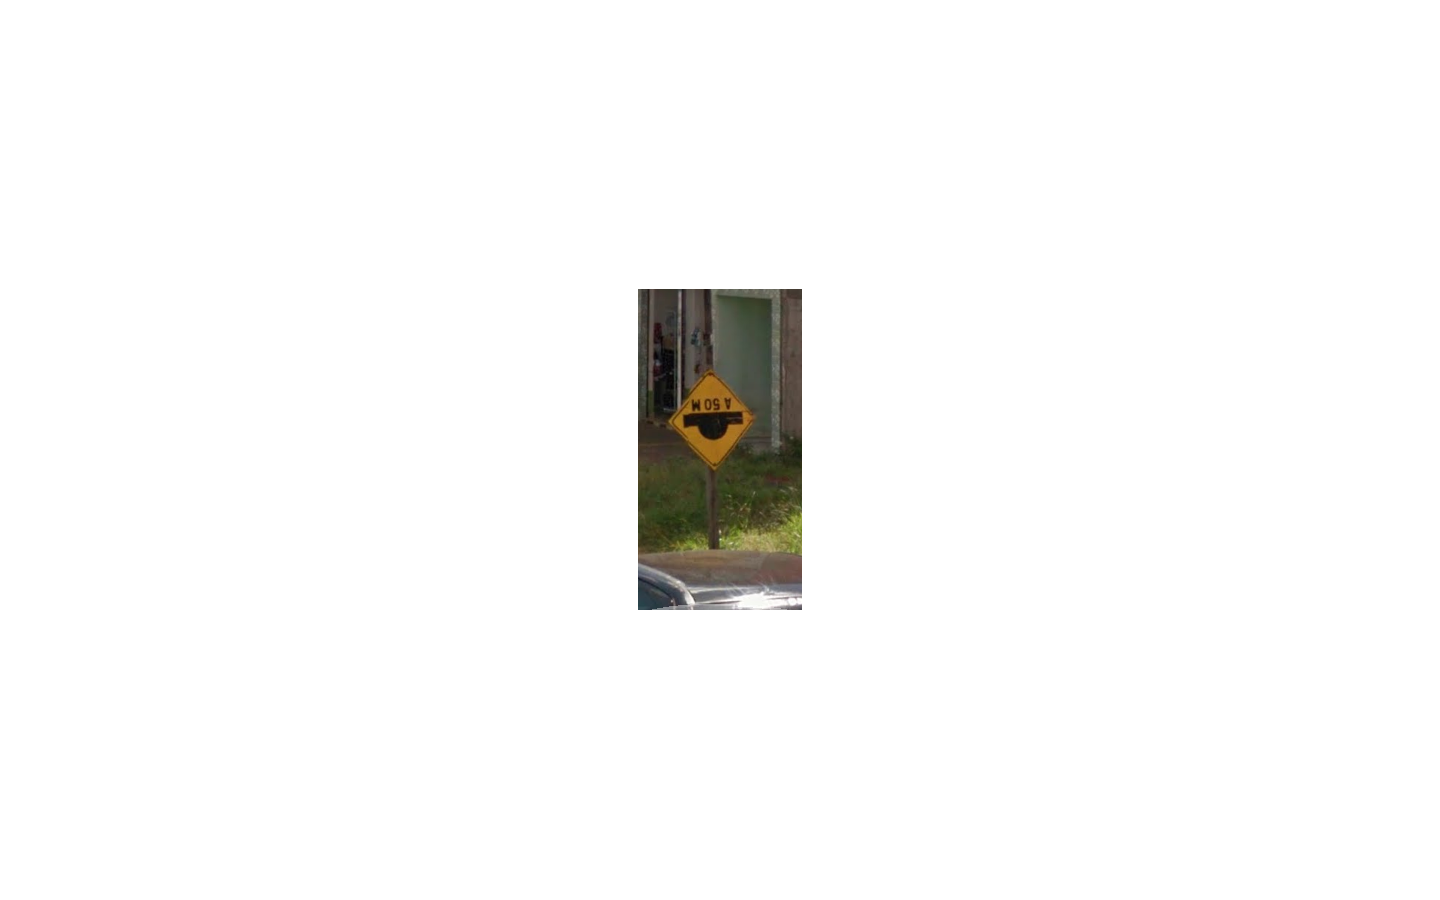l50m: (665, 368, 758, 470)
